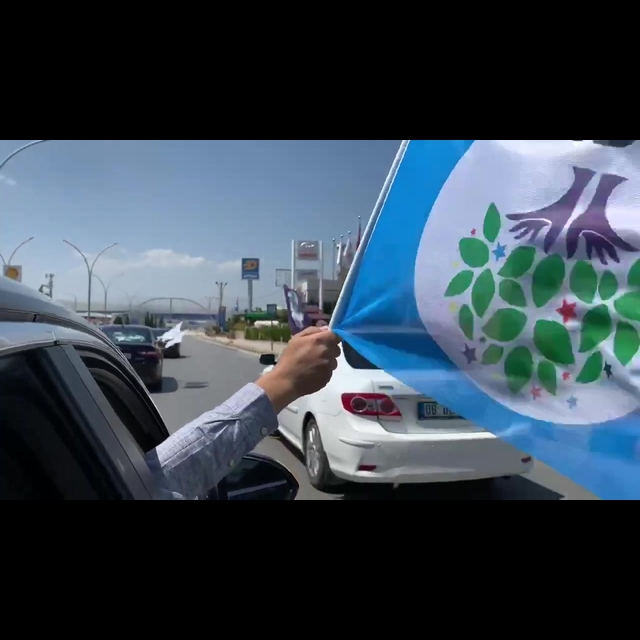HDP: (436, 154, 640, 407)
